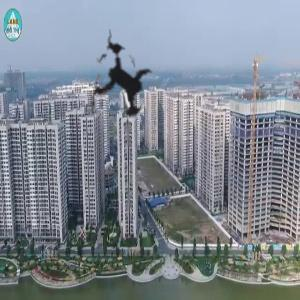drone: (46, 7, 195, 156)
